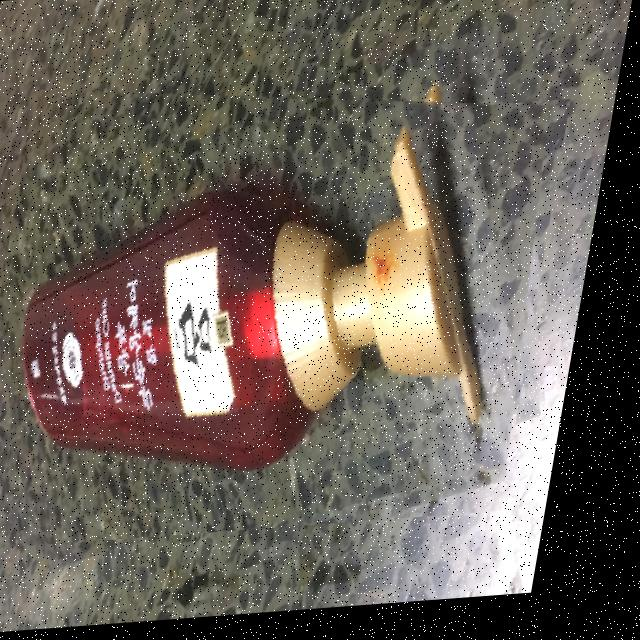litter: (0, 55, 586, 551), (350, 107, 575, 470)
